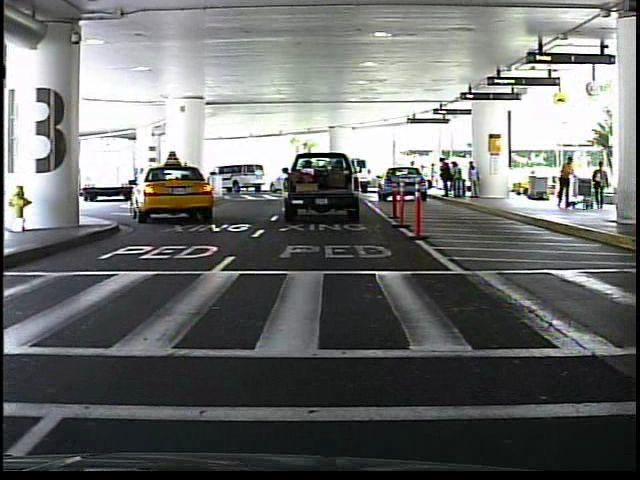person: (555, 154, 579, 213), (591, 158, 612, 212), (406, 158, 421, 193)
